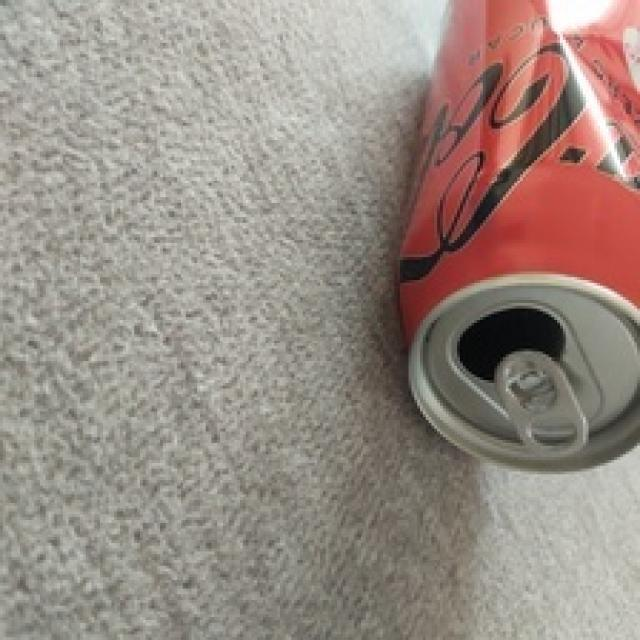recyclable: (396, 0, 640, 475)
